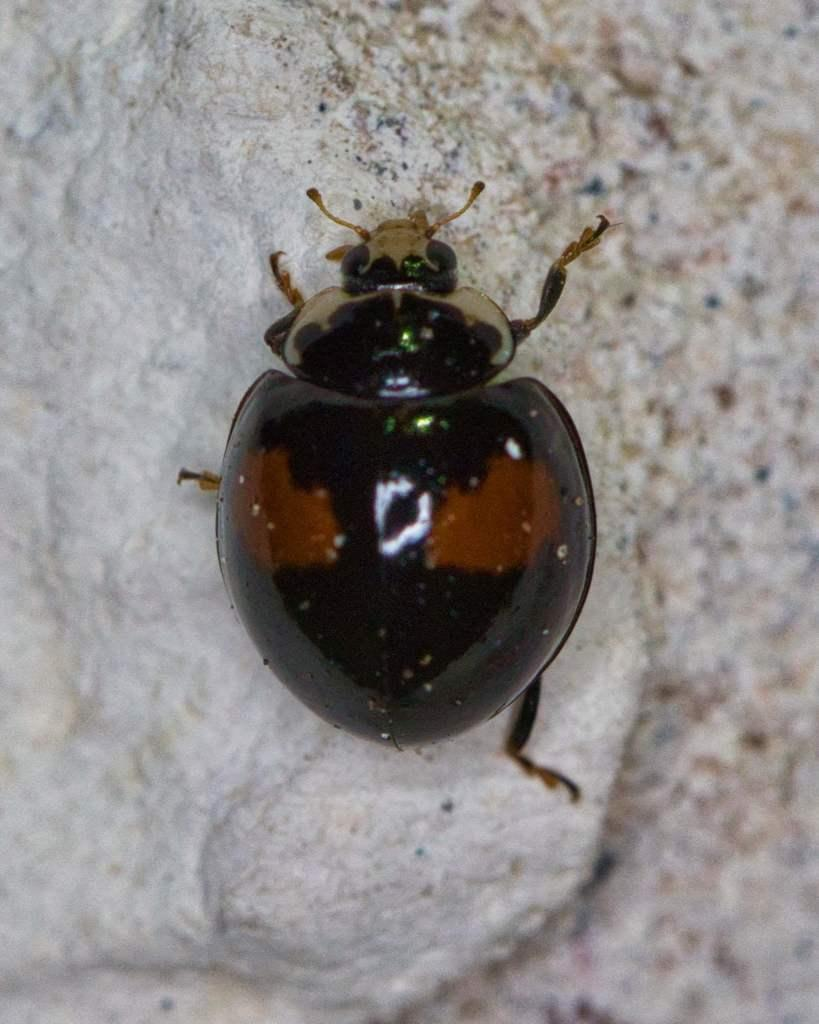ladybug: (174, 176, 616, 809)
